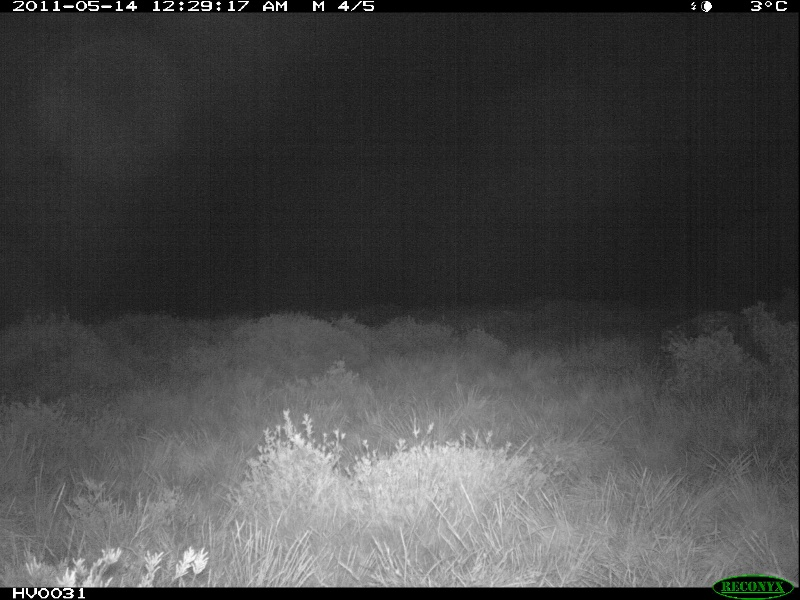fox: (668, 308, 750, 346)
